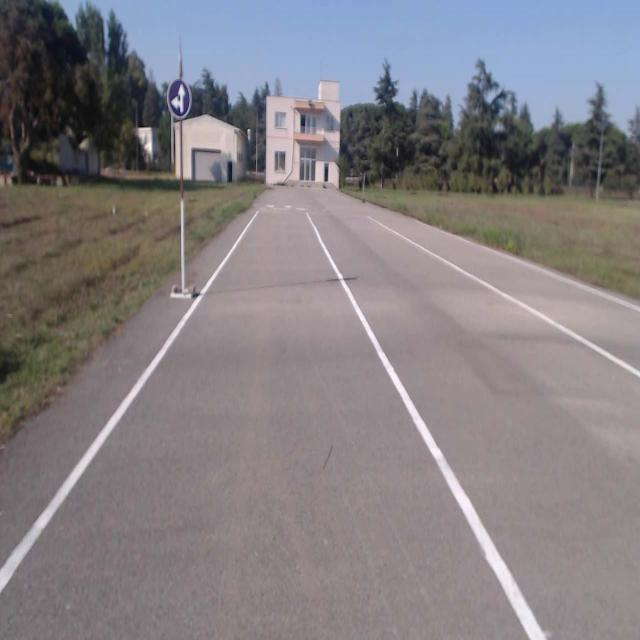ilerisol: (167, 79, 190, 117)
